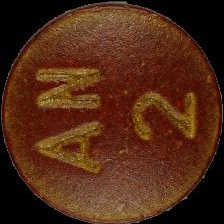51655-155: (0, 0, 224, 224)
